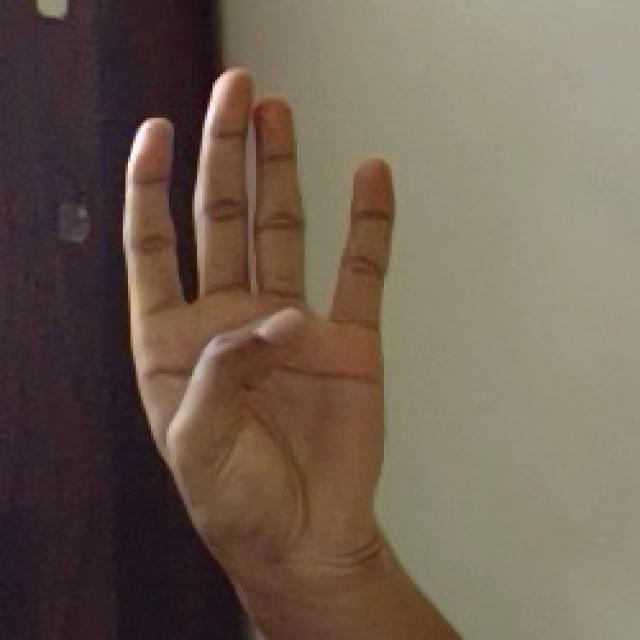Numeric-4: (123, 63, 393, 565)
